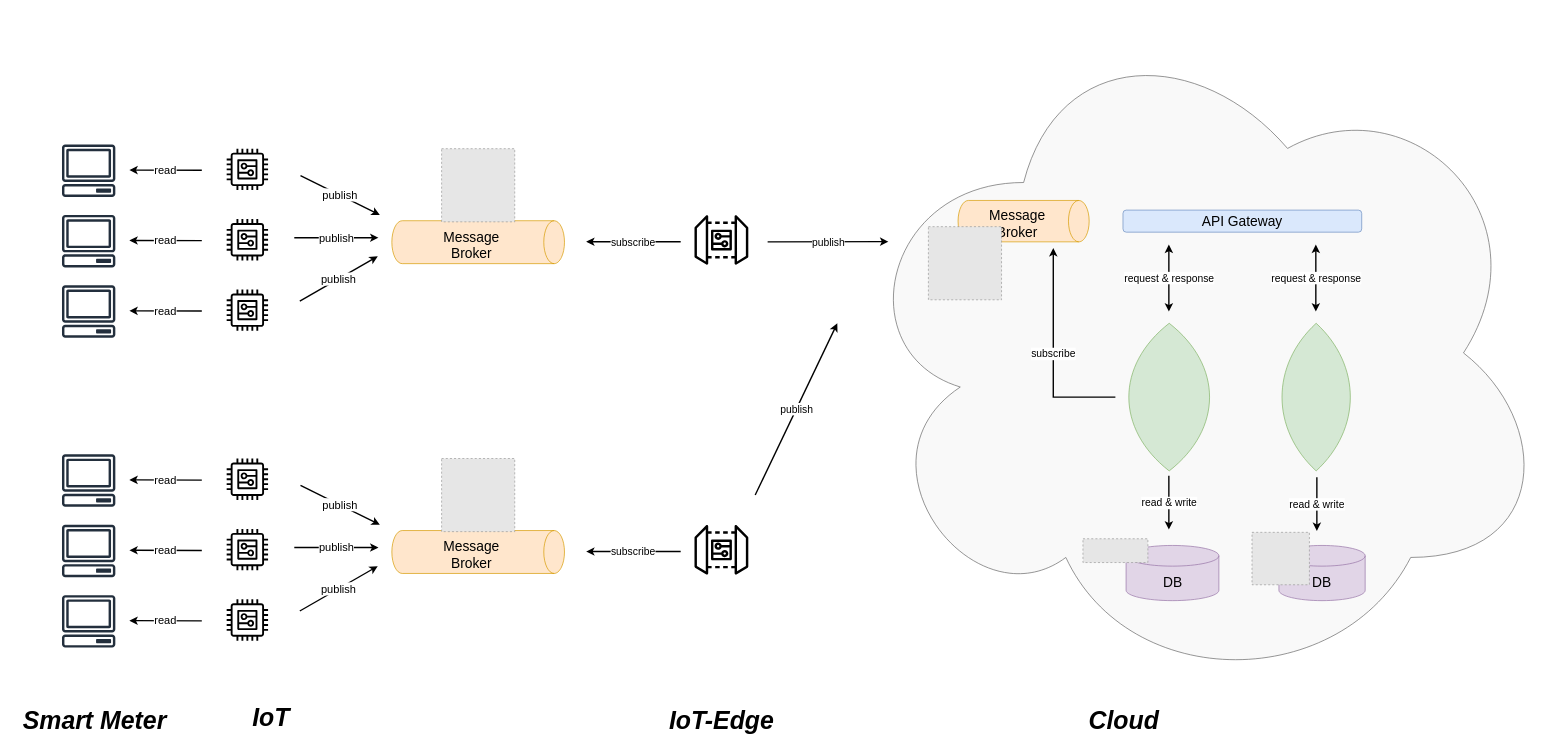
The diagram is 1564 pixels wide and 755 high, and some of its shapes have lost their labels. Grey dashed boxes stand in for pictures. Each missing label, with the centre of its shape:
SmartMeter Service: point (1169, 397)
User Service: point (1316, 397)
